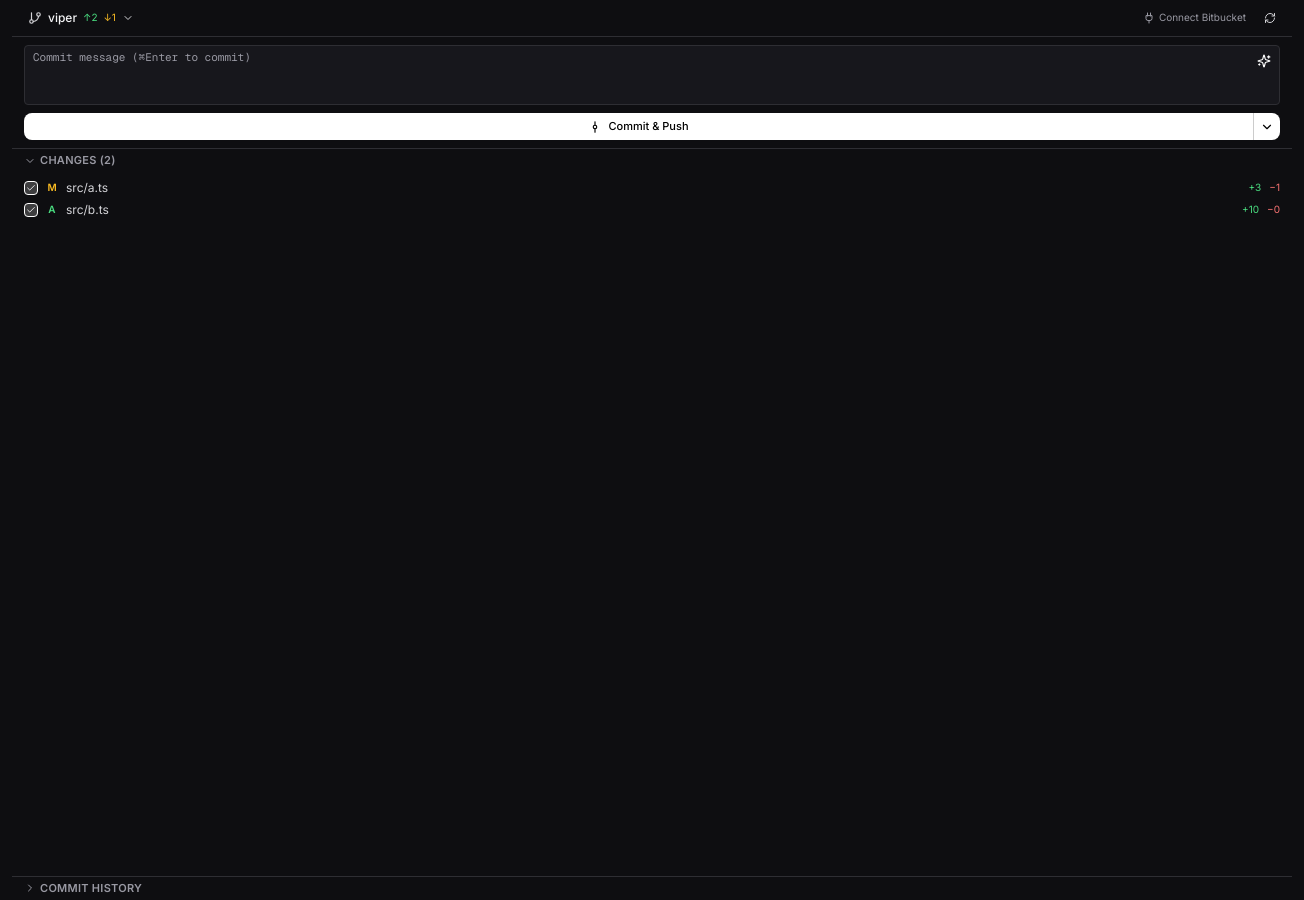
it: SourceControlView › generates a commit message into the textarea
Expected: the button with test id "scm-file-src/a.ts" is shown, [24,181,58,195]
Click the button with test id "scm-generate".
click(1264, 61)  # box [1254,51,1274,71]
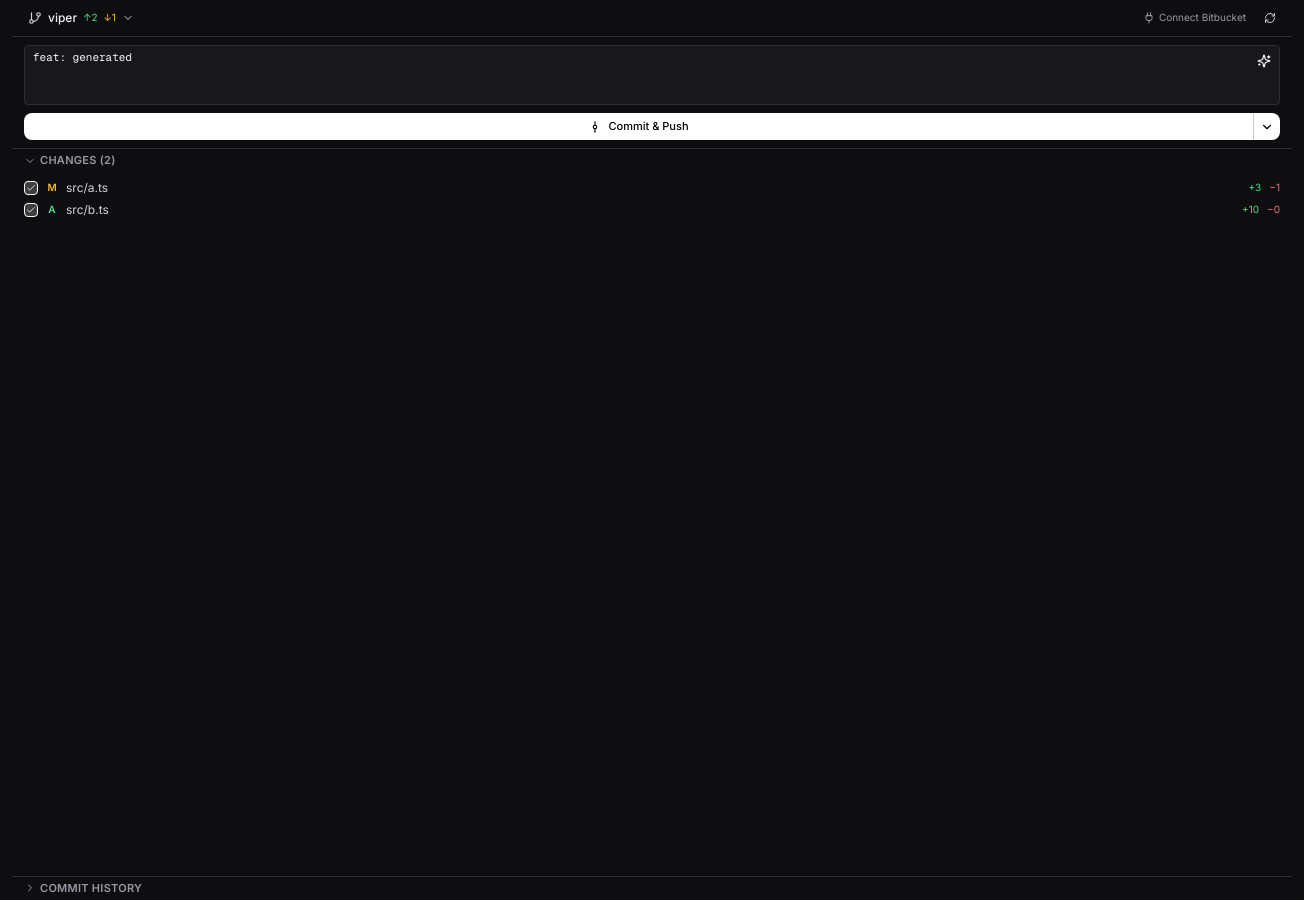
Result: the text box with test id "scm-message" holds "feat: generated" at [24,45,1280,105]
